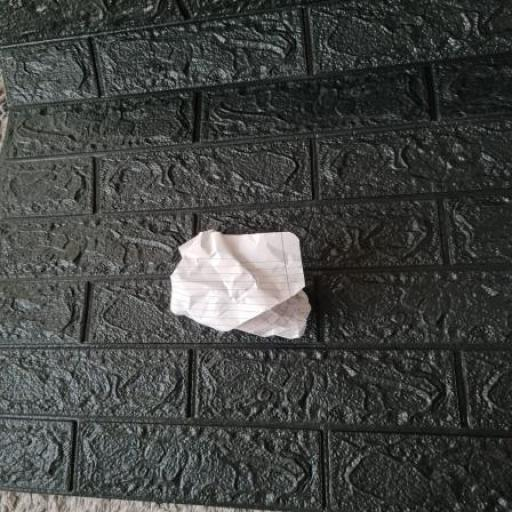paper: (166, 228, 316, 340)
